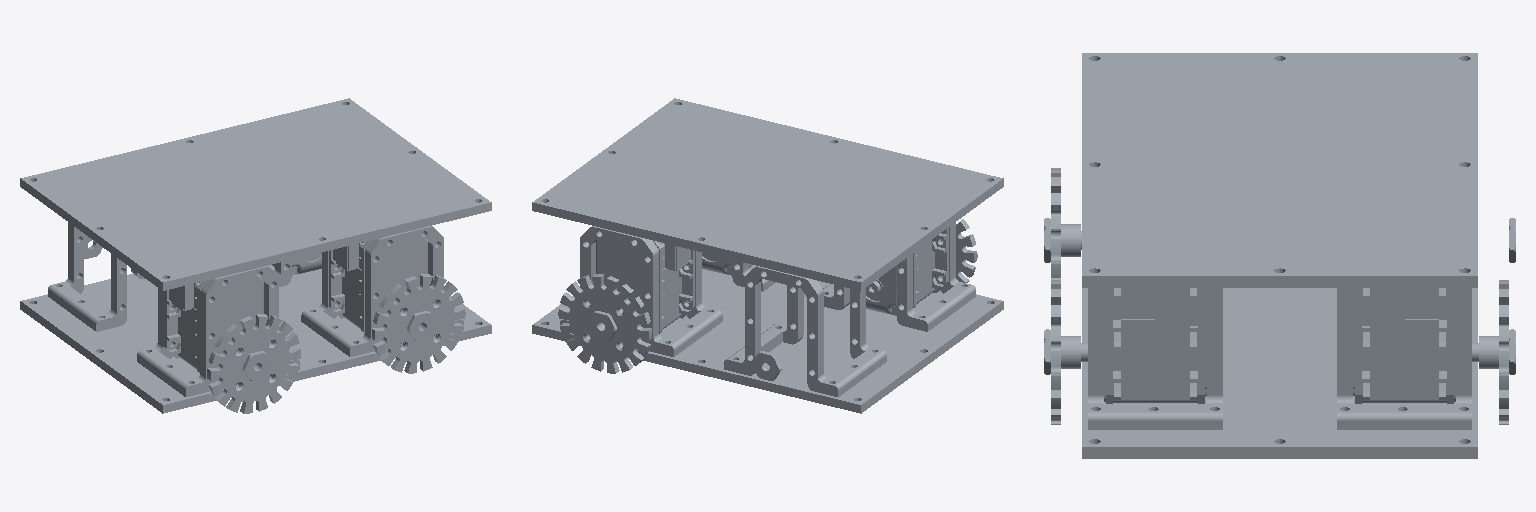
robot.urdf — omnirobot:
<?xml version="1.0" ?>
<!-- =================================================================================== -->
<!-- |    This document was autogenerated by xacro from src/omnirobot_description/urdf/main.xacro | -->
<!-- |    EDITING THIS FILE BY HAND IS NOT RECOMMENDED                                 | -->
<!-- =================================================================================== -->
<robot name="omnirobot">
  <!-- ##################################################################################################### -->
  <!-- ##################################################################################################### -->
  <material name="Orange">
    <color rgba="1.0 0.4 0.0 1.0"/>
  </material>
  <material name="Grey">
    <color rgba="0.7 0.7 0.7 1.0"/>
  </material>
  <material name="DarkGrey">
    <color rgba="0.3 0.3 0.3 1.0"/>
  </material>
  <material name="White">
    <color rgba="1.0 1.0 1.0 1.0"/>
  </material>
  <material name="Black">
    <color rgba="0.0 0.0 0.0 1.0"/>
  </material>
  <material name="Red">
    <color rgba="1.0 0.0 0.0 1.0"/>
  </material>
  <material name="Green">
    <color rgba="0.0 1.0 0.0 1.0"/>
  </material>
  <material name="Blue">
    <color rgba="0.0 0.0 0.8 1.0"/>
  </material>
  <material name="LightGrey">
    <color rgba="0.82 0.82 0.82 1.0"/>
  </material>
  <!--Generated by RobotCAD, a ROS Workbench for FreeCAD (https://github.com/drfenixion/freecad.robotcad)-->
  <link name="l_MX_001">
    <visual>
      <!--MX_001/MX_001.Part__Feature001.-->
      <origin rpy="-3.1415926535897927 0 0" xyz="-0.015 0.0045 0.016"/>
      <geometry>
        <mesh filename="package://omnirobot_description/meshes/dc07_00a_dummy_none.dae"/>
      </geometry>
    </visual>
    <inertial>
      <mass value="0.05364148533505816"/>
      <origin rpy="-3.1415926535897927 0 0" xyz="-0.015 0.0160155 0.0150318"/>
      <inertia ixx="1.511749261621702e-05" ixy="4.447254957121814e-14" ixz="-2.3950835100348136e-14" iyy="9.28145935548608e-06" iyz="-2.2661589904935743e-07" izz="1.2808173883120847e-05"/>
    </inertial>
  </link>
  <link name="l_MX_003">
    <visual>
      <!--MX_003/MX_002.Part__Feature002.-->
      <origin rpy="-3.1415926535897927 0 0" xyz="-0.015 0.0045 0.016"/>
      <geometry>
        <mesh filename="package://omnirobot_description/meshes/dc07_00a_dummy_none001.dae"/>
      </geometry>
    </visual>
    <inertial>
      <mass value="0.05364148533505816"/>
      <origin rpy="-3.1415926535897927 0 0" xyz="-0.015 0.0160155 0.0150318"/>
      <inertia ixx="1.511749261621702e-05" ixy="4.447254957121814e-14" ixz="-2.3950835100348136e-14" iyy="9.28145935548608e-06" iyz="-2.2661589904935743e-07" izz="1.2808173883120847e-05"/>
    </inertial>
  </link>
  <link name="l_MX_005">
    <visual>
      <!--MX_005/MX_003.Part__Feature003.-->
      <origin rpy="3.1415926535897927 0 0" xyz="0.015 0.0045 0.016"/>
      <geometry>
        <mesh filename="package://omnirobot_description/meshes/dc07_00a_dummy_none002.dae"/>
      </geometry>
    </visual>
    <inertial>
      <mass value="0.05364148533505816"/>
      <origin rpy="3.1415926535897927 0 0" xyz="0.015 0.0160155 0.0150318"/>
      <inertia ixx="1.511749261621702e-05" ixy="4.447254957121814e-14" ixz="-2.3950835100348136e-14" iyy="9.28145935548608e-06" iyz="-2.2661589904935743e-07" izz="1.2808173883120847e-05"/>
    </inertial>
  </link>
  <link name="l_MX_007">
    <visual>
      <!--MX_007/MX_004.Part__Feature004.-->
      <origin rpy="3.1415926535897927 0 0" xyz="-0.015 0.0045 0.016"/>
      <geometry>
        <mesh filename="package://omnirobot_description/meshes/dc07_00a_dummy_none003.dae"/>
      </geometry>
    </visual>
    <inertial>
      <mass value="0.05364148533505816"/>
      <origin rpy="3.1415926535897927 0 0" xyz="-0.015 0.0160155 0.0150318"/>
      <inertia ixx="1.511749261621702e-05" ixy="4.447254957121814e-14" ixz="-2.3950835100348136e-14" iyy="9.28145935548608e-06" iyz="-2.2661589904935743e-07" izz="1.2808173883120847e-05"/>
    </inertial>
  </link>
  <link name="l_OmniWheel001">
    <visual>
      <!--OmniWheel001/OmniWheel004.Part__Feature005.-->
      <origin rpy="3.1415926535897927 0 0" xyz="-0.00480373 -0.000638646 0.0345"/>
      <geometry>
        <mesh filename="package://omnirobot_description/meshes/omnibase_predeterminado.dae"/>
      </geometry>
    </visual>
    <visual>
      <!--OmniWheel001/OmniWheel004.Part__Feature006.-->
      <origin rpy="3.1415926535897927 0 0" xyz="-0.00480373 -0.000638646 0.0345"/>
      <geometry>
        <mesh filename="package://omnirobot_description/meshes/nut_predeterminado.dae"/>
      </geometry>
    </visual>
    <visual>
      <!--OmniWheel001/OmniWheel004.Part__Feature007.-->
      <origin rpy="3.1415926535897927 0 0" xyz="-0.00480373 -0.000638646 0.0345"/>
      <geometry>
        <mesh filename="package://omnirobot_description/meshes/fusion001.dae"/>
      </geometry>
    </visual>
    <collision>
      <!--col__l_OmniWheel001__col_OmniWheel1__BoundCylinder/col_OmniWheel1__BoundCylinder.-->
      <origin rpy="3.1415926535897927 0 0" xyz="0.0 0.0 -0.00555962"/>
      <geometry>
        <cylinder length="0.011119233388594999" radius="0.025"/>
      </geometry>
    </collision>
    <inertial>
      <mass value="0.007756331734211842"/>
      <origin rpy="3.1415926535897927 0 0" xyz="0.0 0.0 -0.00717912"/>
      <inertia ixx="1.0724369027895746e-06" ixy="-2.97042574675288e-16" ixz="-1.1719328085746382e-21" iyy="1.0724369024465381e-06" iyz="1.6543026504223233e-22" izz="2.0925962450240802e-06"/>
    </inertial>
  </link>
  <link name="l_OmniWheel003">
    <visual>
      <!--OmniWheel003/OmniWheel005.Part__Feature008.-->
      <origin rpy="3.1415926535897927 0 0" xyz="-0.00480373 -0.000638646 0.0345"/>
      <geometry>
        <mesh filename="package://omnirobot_description/meshes/omnibase_predeterminado001.dae"/>
      </geometry>
    </visual>
    <visual>
      <!--OmniWheel003/OmniWheel005.Part__Feature009.-->
      <origin rpy="3.1415926535897927 0 0" xyz="-0.00480373 -0.000638646 0.0345"/>
      <geometry>
        <mesh filename="package://omnirobot_description/meshes/nut_predeterminado001.dae"/>
      </geometry>
    </visual>
    <visual>
      <!--OmniWheel003/OmniWheel005.Part__Feature010.-->
      <origin rpy="3.1415926535897927 0 0" xyz="-0.00480373 -0.000638646 0.0345"/>
      <geometry>
        <mesh filename="package://omnirobot_description/meshes/fusion002.dae"/>
      </geometry>
    </visual>
    <collision>
      <!--col__l_OmniWheel003__col_OmniWheel2__BoundCylinder/col_OmniWheel2__BoundCylinder.-->
      <origin rpy="3.1415926535897927 0 0" xyz="0.0 0.0 -0.00555962"/>
      <geometry>
        <cylinder length="0.011119233388594999" radius="0.025"/>
      </geometry>
    </collision>
    <inertial>
      <mass value="0.007756331734211842"/>
      <origin rpy="3.1415926535897927 0 0" xyz="0.0 0.0 -0.00717912"/>
      <inertia ixx="1.0724369027895746e-06" ixy="-2.97042574675288e-16" ixz="-1.1719328085746382e-21" iyy="1.0724369024465381e-06" iyz="1.6543026504223233e-22" izz="2.0925962450240802e-06"/>
    </inertial>
  </link>
  <link name="l_OmniWheel005">
    <visual>
      <!--OmniWheel005/OmniWheel006.Part__Feature011.-->
      <origin rpy="-3.141592653589793 0 0" xyz="-0.00480373 -0.000638646 0.0345"/>
      <geometry>
        <mesh filename="package://omnirobot_description/meshes/omnibase_predeterminado002.dae"/>
      </geometry>
    </visual>
    <visual>
      <!--OmniWheel005/OmniWheel006.Part__Feature012.-->
      <origin rpy="-3.141592653589793 0 0" xyz="-0.00480373 -0.000638646 0.0345"/>
      <geometry>
        <mesh filename="package://omnirobot_description/meshes/nut_predeterminado002.dae"/>
      </geometry>
    </visual>
    <visual>
      <!--OmniWheel005/OmniWheel006.Part__Feature013.-->
      <origin rpy="-3.141592653589793 0 0" xyz="-0.00480373 -0.000638646 0.0345"/>
      <geometry>
        <mesh filename="package://omnirobot_description/meshes/fusion003.dae"/>
      </geometry>
    </visual>
    <collision>
      <!--col__l_OmniWheel005__col_OmniWheel3__BoundCylinder/col_OmniWheel3__BoundCylinder.-->
      <origin rpy="-3.141592653589793 0 0" xyz="0.0 0.0 -0.00555962"/>
      <geometry>
        <cylinder length="0.011119233388594999" radius="0.025"/>
      </geometry>
    </collision>
    <inertial>
      <mass value="0.007756331734211842"/>
      <origin rpy="-3.141592653589793 0 0" xyz="0.0 0.0 -0.00717912"/>
      <inertia ixx="1.0724369027895746e-06" ixy="-2.97042574675288e-16" ixz="-1.1719328085746382e-21" iyy="1.0724369024465381e-06" iyz="1.6543026504223233e-22" izz="2.0925962450240802e-06"/>
    </inertial>
  </link>
  <link name="l_OmniWheel007">
    <visual>
      <!--OmniWheel007/OmniWheel007.Part__Feature014.-->
      <origin rpy="-3.1415926535897927 0 0" xyz="-0.00480373 -0.000638646 0.0345"/>
      <geometry>
        <mesh filename="package://omnirobot_description/meshes/omnibase_predeterminado003.dae"/>
      </geometry>
    </visual>
    <visual>
      <!--OmniWheel007/OmniWheel007.Part__Feature015.-->
      <origin rpy="-3.1415926535897927 0 0" xyz="-0.00480373 -0.000638646 0.0345"/>
      <geometry>
        <mesh filename="package://omnirobot_description/meshes/nut_predeterminado003.dae"/>
      </geometry>
    </visual>
    <visual>
      <!--OmniWheel007/OmniWheel007.Part__Feature016.-->
      <origin rpy="-3.1415926535897927 0 0" xyz="-0.00480373 -0.000638646 0.0345"/>
      <geometry>
        <mesh filename="package://omnirobot_description/meshes/fusion004.dae"/>
      </geometry>
    </visual>
    <collision>
      <!--col__l_OmniWheel007__col_OmniWheel4__BoundCylinder/col_OmniWheel4__BoundCylinder.-->
      <origin rpy="-3.1415926535897927 0 0" xyz="0.0 0.0 -0.00555962"/>
      <geometry>
        <cylinder length="0.011119233388594999" radius="0.025"/>
      </geometry>
    </collision>
    <inertial>
      <mass value="0.007756331734211842"/>
      <origin rpy="-3.1415926535897927 0 0" xyz="0.0 0.0 -0.00717912"/>
      <inertia ixx="1.0724369027895746e-06" ixy="-2.97042574675288e-16" ixz="-1.1719328085746382e-21" iyy="1.0724369024465381e-06" iyz="1.6543026504223233e-22" izz="2.0925962450240802e-06"/>
    </inertial>
  </link>
  <link name="base_link">
    <visual>
      <!--Assembly001/Assembly002.Part__Feature.-->
      <origin rpy="0 0 0" xyz="0.0 0.0 0.017"/>
      <geometry>
        <mesh filename="package://omnirobot_description/meshes/fusion.dae"/>
      </geometry>
    </visual>
    <collision>
      <!--col__l_Assembly001__col_Assembly001__BoundBox/col_Assembly001__BoundBox.-->
      <origin rpy="0 0 0" xyz="0.0 0.0 0.04475"/>
      <geometry>
        <box size="0.16 0.12 0.0555"/>
      </geometry>
    </collision>
    <inertial>
      <mass value="0.13785683395530818"/>
      <origin rpy="0 0 0" xyz="0.0 0.0 0.0259647"/>
      <inertia ixx="0.0002149198329945064" ixy="-2.65453004346353e-09" ixz="6.710717637660547e-10" iyy="0.00031333582382853185" iyz="2.0186783542406698e-10" izz="0.00047001863956406246"/>
    </inertial>
  </link>
  <link name="l_Body001">
    <visual>
      <!--Body001/Body002.-->
      <origin rpy="0 0 0" xyz="0.0 0.0 0.0"/>
      <geometry>
        <mesh filename="package://omnirobot_description/meshes/body.dae"/>
      </geometry>
    </visual>
    <inertial>
      <mass value="0.09487173723413107"/>
      <origin rpy="0 0 0" xyz="0.0 0.0 0.002"/>
      <inertia ixx="0.00011355729857447346" ixy="2.8690556064248077e-21" ixz="6.766640581190585e-24" iyy="0.00020172717829805288" iyz="0.0" izz="0.00031503148433323526"/>
    </inertial>
  </link>
  <joint name="MX1_Base_LeftTop_Joint" type="fixed">
    <parent link="base_link"/>
    <child link="l_MX_001"/>
    <origin rpy="1.5707963267948968 0 0" xyz="0.055 0.05268 0.0295"/>
  </joint>
  <joint name="MX2_Base_LeftBottom_Joint" type="fixed">
    <parent link="base_link"/>
    <child link="l_MX_003"/>
    <origin rpy="1.5707963267948968 0 0" xyz="-0.025 0.05268 0.0295"/>
  </joint>
  <joint name="MX3_Base_RightTop_Joint" type="fixed">
    <parent link="base_link"/>
    <child link="l_MX_005"/>
    <origin rpy="1.5707963267948968 0 -3.141592653589793" xyz="0.055 -0.05268 0.0295"/>
  </joint>
  <joint name="MX4_Base_RightBottom_Joint" type="fixed">
    <parent link="base_link"/>
    <child link="l_MX_007"/>
    <origin rpy="1.570796326794897 0 3.141592653589793" xyz="-0.055 -0.05268 0.0295"/>
  </joint>
  <!-- ##################################################################################################### -->
  <joint name="Omni1_MX1_Joint" type="continuous">
    <parent link="l_MX_001"/>
    <child link="l_OmniWheel001"/>
    <origin rpy="0 0 0" xyz="-0.015 0.0045 -0.0076"/>
    <axis xyz="0 0 -1"/>
    <limit effort="10.0" velocity="1.7453292519943295"/>
  </joint>
  <joint name="Omni2_MX2_Joint" type="continuous">
    <parent link="l_MX_003"/>
    <child link="l_OmniWheel003"/>
    <origin rpy="0 0 0" xyz="-0.015 0.0045 -0.0076"/>
    <axis xyz="0 0 -1"/>
    <limit effort="10.0" velocity="1.7453292519943295"/>
  </joint>
  <joint name="Omni3_MX3_Joint" type="continuous">
    <parent link="l_MX_005"/>
    <child link="l_OmniWheel005"/>
    <origin rpy="0 0 0" xyz="0.015 0.0045 -0.0076"/>
    <axis xyz="0 0 1"/>
    <limit effort="10.0" velocity="1.7453292519943295"/>
  </joint>
  <joint name="Omni4_MX4_Joint" type="continuous">
    <parent link="l_MX_007"/>
    <child link="l_OmniWheel007"/>
    <origin rpy="0 0 0" xyz="-0.015 0.0045 -0.0076"/>
    <axis xyz="0 0 1"/>
    <limit effort="10.0" velocity="1.7453292519943295"/>
  </joint>


  <joint name="base2_base_Joint" type="fixed">
    <parent link="base_link"/>
    <child link="l_Body001"/>
    <origin rpy="0 0 0" xyz="0.0 0.0 0.074"/>
  </joint>
  <link name="base_footprint"/>
  <joint name="base_footprint_joint" type="fixed">
    <parent link="base_footprint"/>
    <child link="base_link"/>
    <origin rpy="0 0 0" xyz="0 0 0"/>
  </joint>
  <link name="camera_link">
    <visual>
      <!--MX_001/MX_001.Part__Feature001.-->
      <origin rpy="3.14159274 0 -1.57079637" xyz="0.0 0.050 0.047"/>
      <geometry>
        <mesh filename="package://omnirobot_description/meshes/c920_Camera.dae"/>
      </geometry>
    </visual>
    <collision>
      <origin rpy="0 0 0" xyz="-0.015 0.0 0.037"/>
      <geometry>
        <box size="0.03 0.06 0.04"/>
      </geometry>
    </collision>
    <inertial>
      <mass value="0.1"/>
      <origin rpy="0 0 0" xyz="-0.015 0.0 0.037"/>
      <inertia ixx="1e-4" ixy="0.0" ixz="0.0" iyy="1e-4" iyz="0.0" izz="1e-4"/>
    </inertial>
  </link>
  <joint name="camera_base2_Joint" type="fixed">
    <parent link="l_Body001"/>
    <child link="camera_link"/>
    <origin rpy="0 0 0" xyz="0.08 0 0"/>
  </joint>
  <webots>
    <device reference="camera" type="Camera">
      <ros>
        <enabled>true</enabled>
        <topicName>/camera</topicName>
        <alwaysOn>true</alwaysOn>
        <frameName>camera_link</frameName>
        <imageSuffix>/image_raw</imageSuffix>
        <cameraInfoSuffix>/camera_info</cameraInfoSuffix>
      </ros>
    </device>
    
    <plugin type="webots_ros2_control::Ros2Control"/>
  </webots>
  <ros2_control name="WebotsControl" type="system">
    <hardware>
      <plugin>webots_ros2_control::Ros2ControlSystem</plugin>
    </hardware>
    <joint name="Omni1_MX1_Joint">
      <state_interface name="position"/>
      <command_interface name="velocity"/>
    </joint>
    <joint name="Omni2_MX2_Joint">
      <state_interface name="position"/>
      <command_interface name="velocity"/>
    </joint>
    <joint name="Omni3_MX3_Joint">
      <state_interface name="position"/>
      <command_interface name="velocity"/>
    </joint>
    <joint name="Omni4_MX4_Joint">
      <state_interface name="position"/>
      <command_interface name="velocity"/>
    </joint>
  </ros2_control>
</robot>

--- Render facts (derived) ---
3 views of the same robot in one strip: view 1: azimuth 30°, elevation 25°; view 2: azimuth 150°, elevation 25°; view 3: azimuth 270°, elevation 25° (orthographic).
Model omnirobot with 12 links and 11 joints (4 continuous, 7 fixed), rooted at base_footprint, posed every joint at zero.
Links seen in each view (by area): view 1: l_Body001, base_link, l_OmniWheel007, l_OmniWheel005, l_MX_005, l_MX_007; view 2: l_Body001, base_link, l_OmniWheel001, l_MX_001, l_MX_007, l_OmniWheel007, l_OmniWheel003; view 3: l_Body001, base_link, l_MX_001, l_MX_005, l_OmniWheel001, l_OmniWheel005, l_OmniWheel007.
Boxes of the visible links, box(x1,y1,x2,y2) form: l_Body001: box(20, 98, 491, 290); base_link: box(20, 222, 491, 413); l_OmniWheel007: box(207, 314, 300, 413); l_OmniWheel005: box(372, 274, 465, 373); l_MX_005: box(329, 239, 427, 340); l_MX_007: box(164, 279, 263, 380); l_Body001: box(532, 98, 1003, 290); base_link: box(532, 222, 1003, 413); l_OmniWheel001: box(558, 274, 651, 373); l_MX_001: box(596, 239, 694, 340); l_MX_007: box(866, 227, 948, 315); l_OmniWheel007: box(956, 219, 977, 282); l_OmniWheel003: box(752, 351, 781, 380); l_Body001: box(1082, 53, 1477, 287); base_link: box(1082, 288, 1477, 458); l_MX_001: box(1353, 288, 1478, 403); l_MX_005: box(1081, 288, 1206, 403); l_OmniWheel001: box(1479, 280, 1515, 424); l_OmniWheel005: box(1044, 280, 1080, 424); l_OmniWheel007: box(1044, 168, 1080, 279).
Bounding box of the posed robot: 0.16 × 0.1426 × 0.0659 m (x, y, z).
Meshes: 19 distinct files referenced, 12 mesh visuals loaded (12 Collada DAE); not drawn: 7 (reference not matched to a file when rendering).
